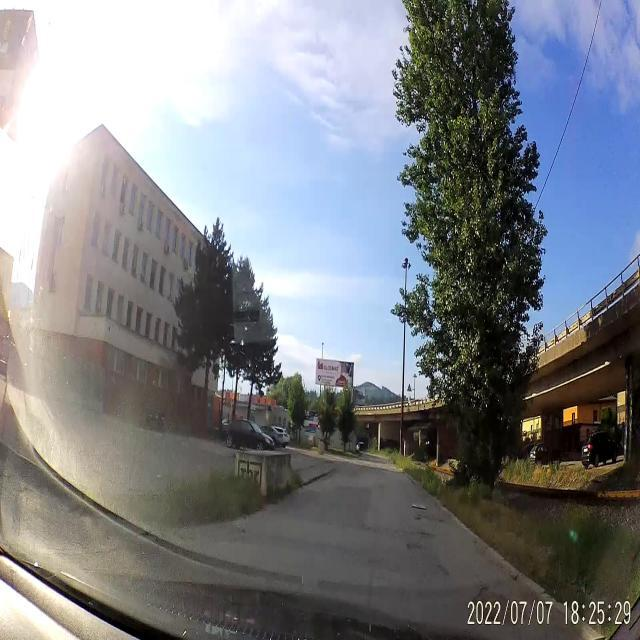Pothole: (469, 577, 526, 629), (404, 533, 426, 555)
